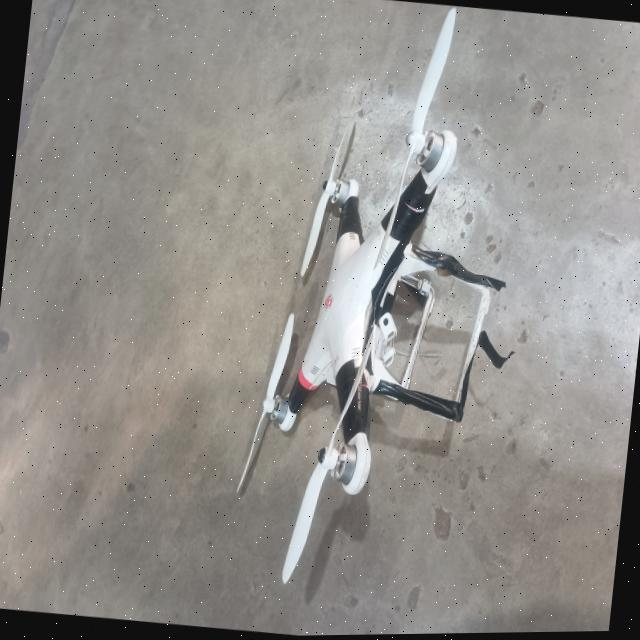drone: (183, 0, 555, 618)
